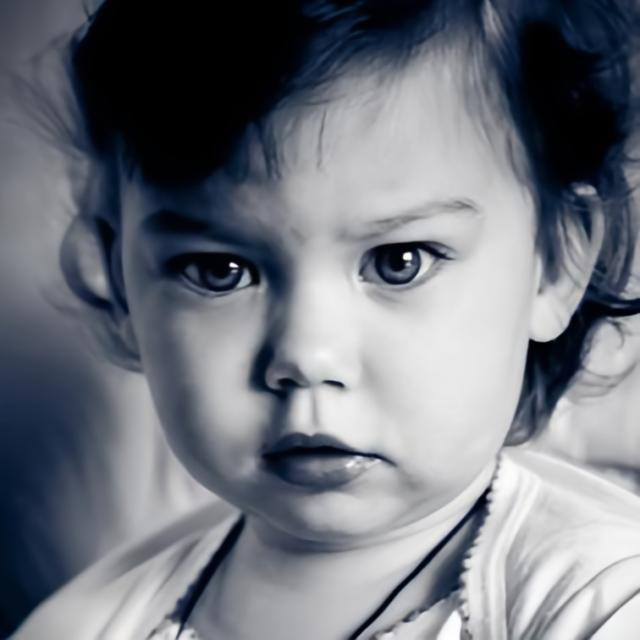sad: (115, 21, 529, 542)
